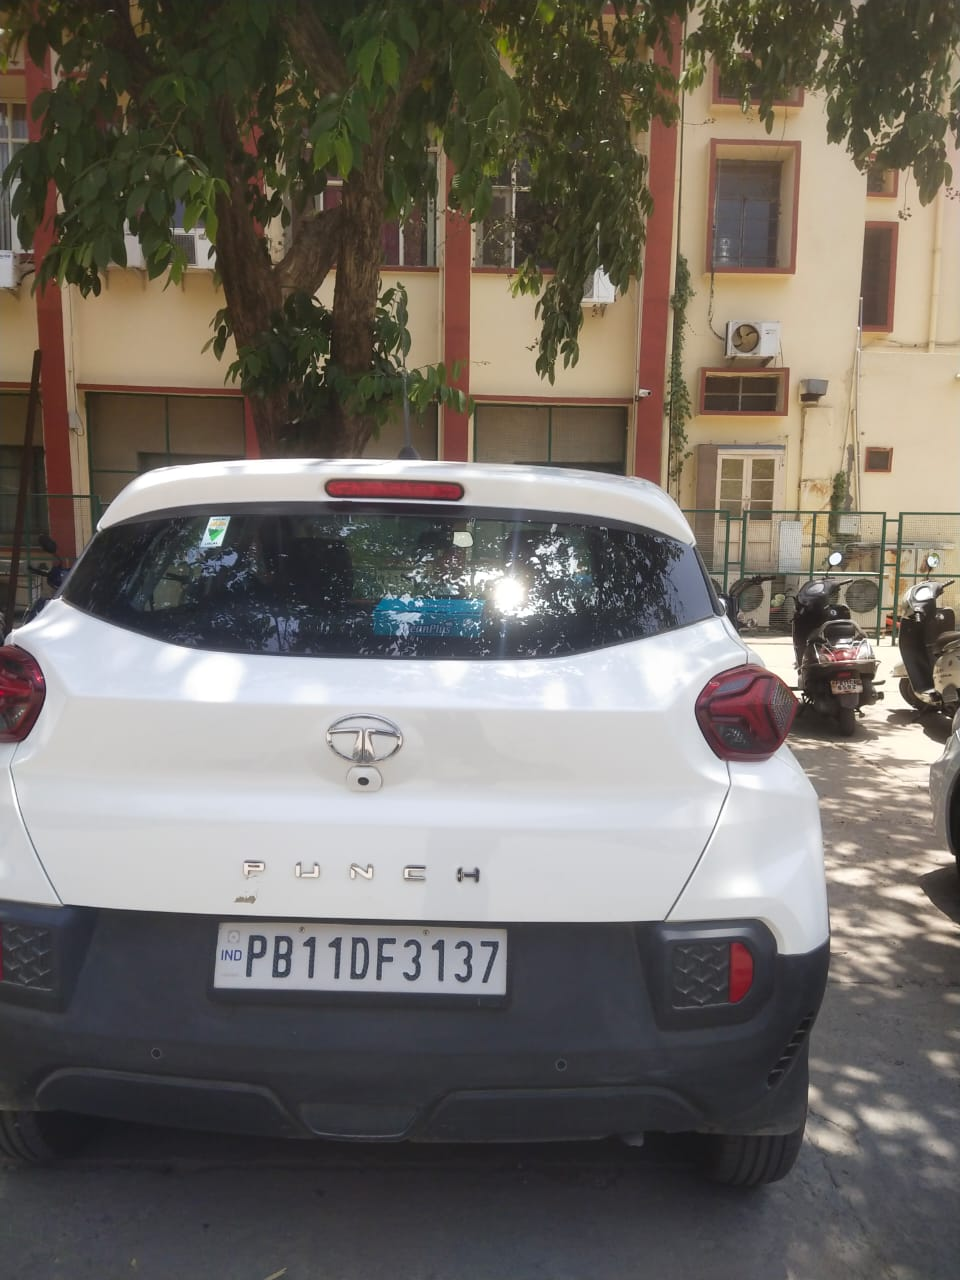license plate: (214, 922, 506, 995)
